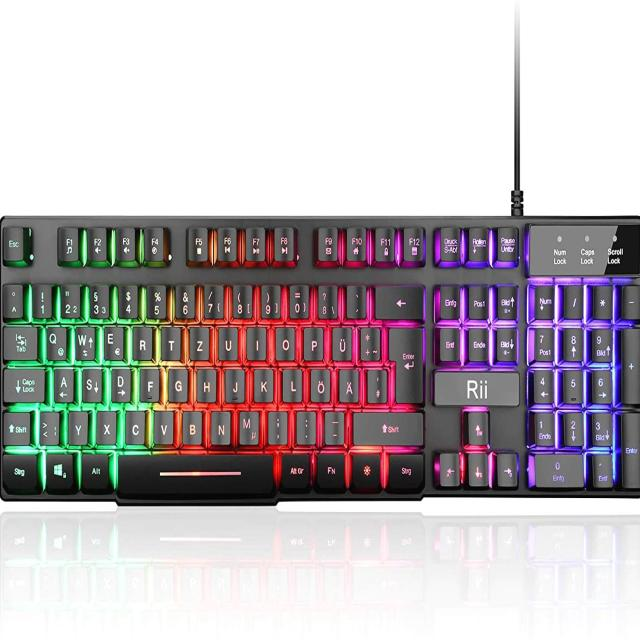0: (287, 280, 309, 318)
1: (30, 279, 51, 317)
2: (58, 280, 80, 318)
3: (87, 281, 109, 319)
4: (117, 280, 138, 317)
5: (145, 280, 167, 318)
6: (173, 280, 195, 318)
7: (202, 280, 223, 318)
8: (229, 280, 252, 318)
9: (258, 280, 280, 318)
a: (52, 363, 73, 402)
accent: (344, 280, 366, 316)
ae: (337, 363, 359, 401)
alt-left: (80, 449, 108, 489)
altgr-right: (280, 448, 309, 487)
b: (180, 406, 201, 443)
c: (123, 407, 144, 444)
caret: (1, 280, 22, 317)
comma: (265, 406, 287, 442)
d: (109, 363, 130, 401)
del: (373, 281, 422, 318)
e: (102, 322, 123, 359)
enter: (386, 320, 423, 403)
f: (138, 363, 159, 401)
g: (165, 363, 187, 401)
h: (195, 363, 216, 401)
hash: (364, 363, 386, 401)
i: (245, 321, 265, 358)
j: (222, 363, 244, 401)
k: (251, 363, 273, 401)
keyboard: (0, 210, 640, 511)
l: (280, 363, 301, 400)
less: (37, 408, 59, 445)
m: (236, 405, 258, 443)
minus: (322, 405, 344, 443)
n: (209, 406, 231, 443)
o: (273, 322, 295, 359)
oe: (308, 363, 329, 401)
p: (301, 322, 323, 358)
plus: (357, 321, 379, 359)
point: (294, 406, 315, 443)
q: (44, 322, 66, 360)
r: (131, 322, 152, 359)
s: (80, 363, 102, 401)
shift-left: (1, 407, 30, 445)
shift-lock: (1, 364, 45, 402)
shift-right: (351, 407, 422, 444)
space: (114, 447, 274, 496)
ss: (315, 280, 336, 318)
strg-left: (0, 450, 37, 491)
strg-right: (386, 449, 423, 489)
t: (159, 321, 180, 358)
tab: (1, 322, 38, 359)
u: (216, 321, 237, 359)
ue: (330, 322, 351, 358)
v: (151, 405, 173, 443)
w: (73, 322, 95, 360)
x: (95, 407, 116, 444)
y: (67, 408, 87, 445)
z: (187, 321, 209, 359)
